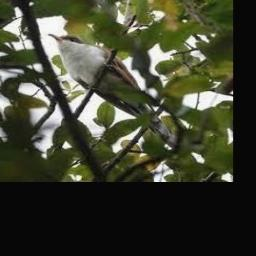Cuckoo: (49, 33, 179, 147)
